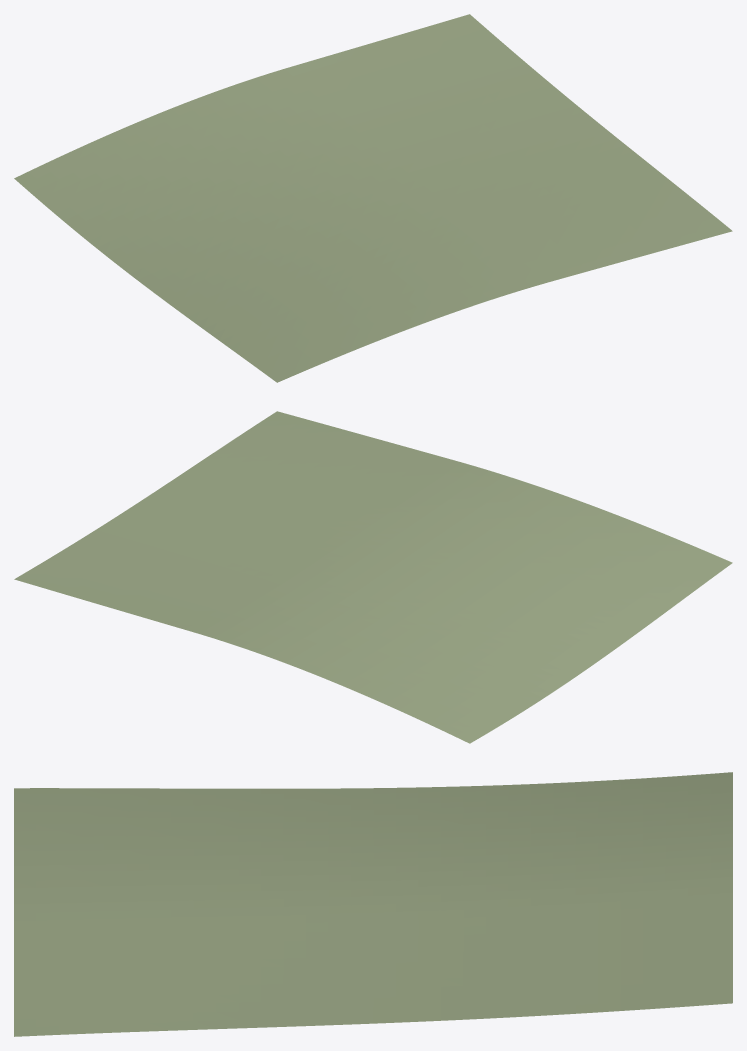
The model's file is desert-24-9.glb.
The picture shows the model from 3 angles, top to bottom: view 1: azimuth 30°, elevation 25°; view 2: azimuth 150°, elevation 25°; view 3: azimuth 270°, elevation 25°; orthographic projection. The views are drawn at different scales.
Parts seen in each view (by area): view 1: desert-24-9; view 2: desert-24-9; view 3: desert-24-9.
Boxes of the visible parts, left/top/right/bottom form: desert-24-9: left=14, top=14, right=732, bottom=382; desert-24-9: left=14, top=411, right=732, bottom=743; desert-24-9: left=14, top=772, right=732, bottom=1036.
Size of the model in its own units: 512 by 70.11 by 512.
